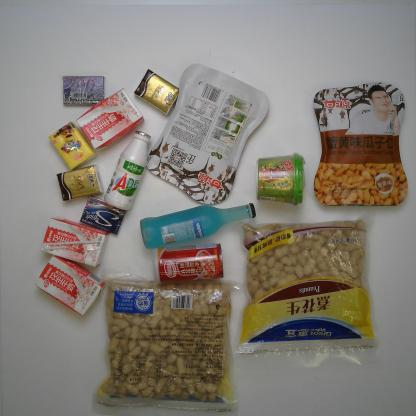Alcohol: (138, 202, 256, 250)
Canned Food: (152, 243, 224, 284)
Dried Food: (91, 270, 246, 414), (233, 209, 381, 356)
Dried Fruit: (146, 62, 270, 206), (312, 80, 411, 208)
Gum: (79, 195, 127, 236), (60, 74, 107, 107)
Instant Drink: (255, 153, 307, 207)
Milk: (34, 254, 106, 317), (75, 87, 145, 150), (104, 130, 152, 212), (39, 217, 111, 268)
Tissue: (48, 120, 96, 170), (133, 68, 180, 116), (56, 163, 104, 202)
